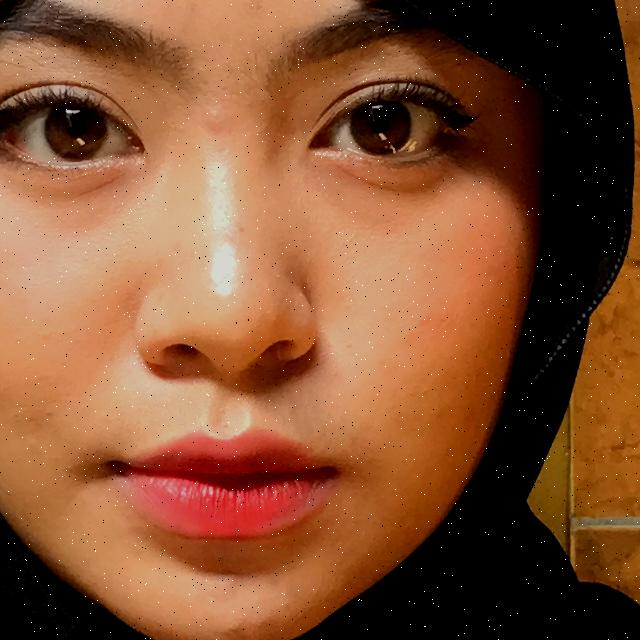ibu: (0, 196, 275, 640)
